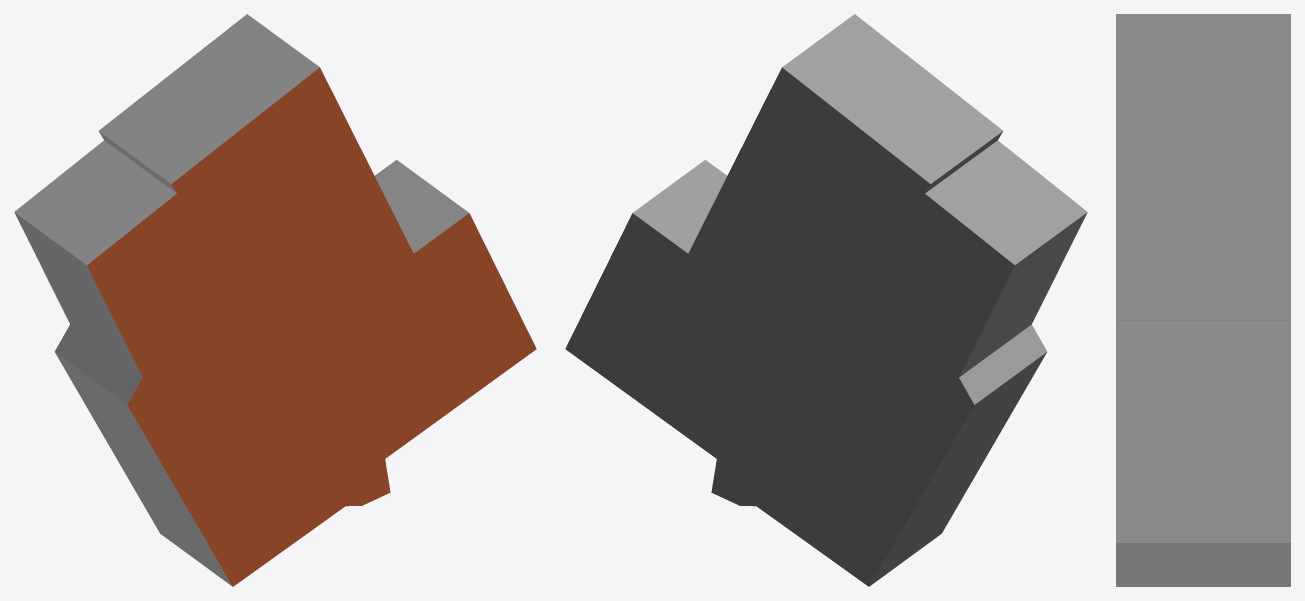
File: construction_2147_assumed_A_Casa_h6m.obj
The picture shows the model from 3 angles, left to right: view 1: azimuth 30°, elevation 25°; view 2: azimuth 150°, elevation 25°; view 3: azimuth 270°, elevation 25°; orthographic projection. The views are drawn at different scales.
Visible parts, largest first — view 1: construction_2147_assumed_A_Casa; view 2: construction_2147_assumed_A_Casa; view 3: construction_2147_assumed_A_Casa.
Part boxes in pixels (x1,y1,x2,y2): construction_2147_assumed_A_Casa: [14, 14, 536, 586]; construction_2147_assumed_A_Casa: [565, 14, 1087, 586]; construction_2147_assumed_A_Casa: [1116, 14, 1290, 586].
Bounding box in the file's own units: 21.39 × 22.66 × 6.
